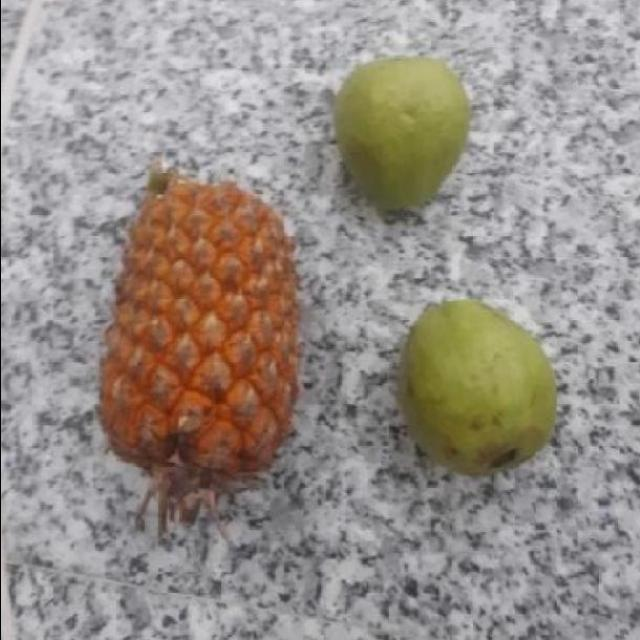guava: (398, 301, 554, 481), (330, 54, 470, 226)
pineapple: (90, 160, 304, 534)
